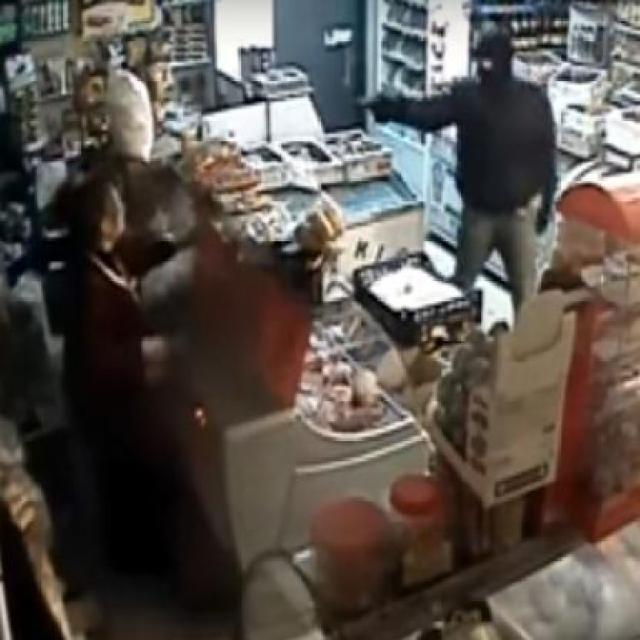weapon: (350, 85, 396, 126)
